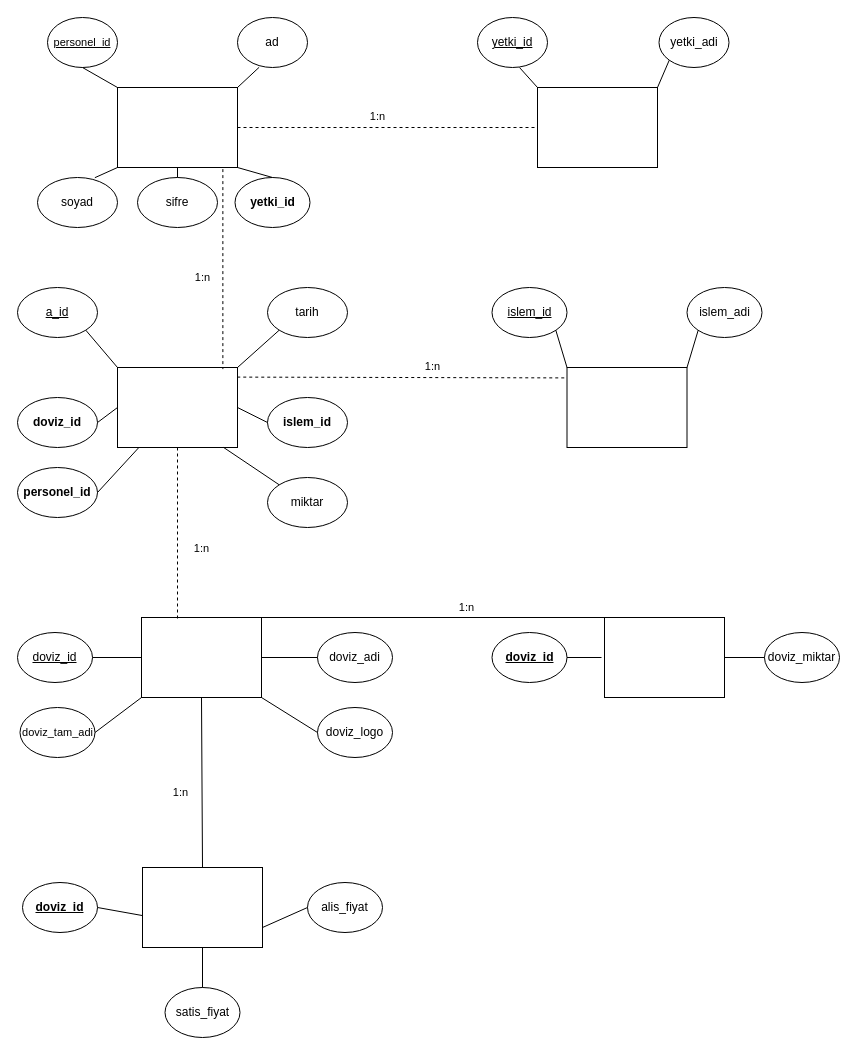
The diagram is 857 pixels wide and 1055 high, and some of its shapes have lost their labels. Here are the shapes that lost their labels. From the top down, the centre of each, then its label:
the point at 177,127: personel
the point at 597,127: yetki
the point at 177,407: alısveris
the point at 626,407: islem
the point at 201,657: doviz
the point at 664,657: kasa
the point at 202,907: deger
